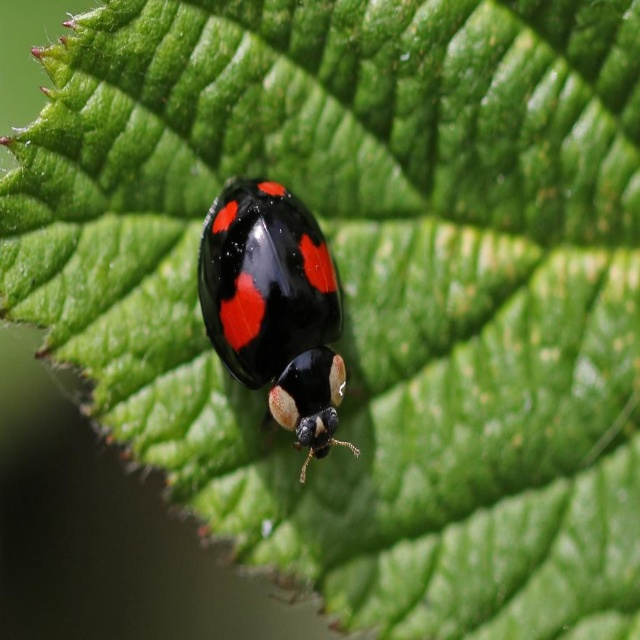Ladybug: (195, 177, 364, 481), (198, 174, 360, 485)
